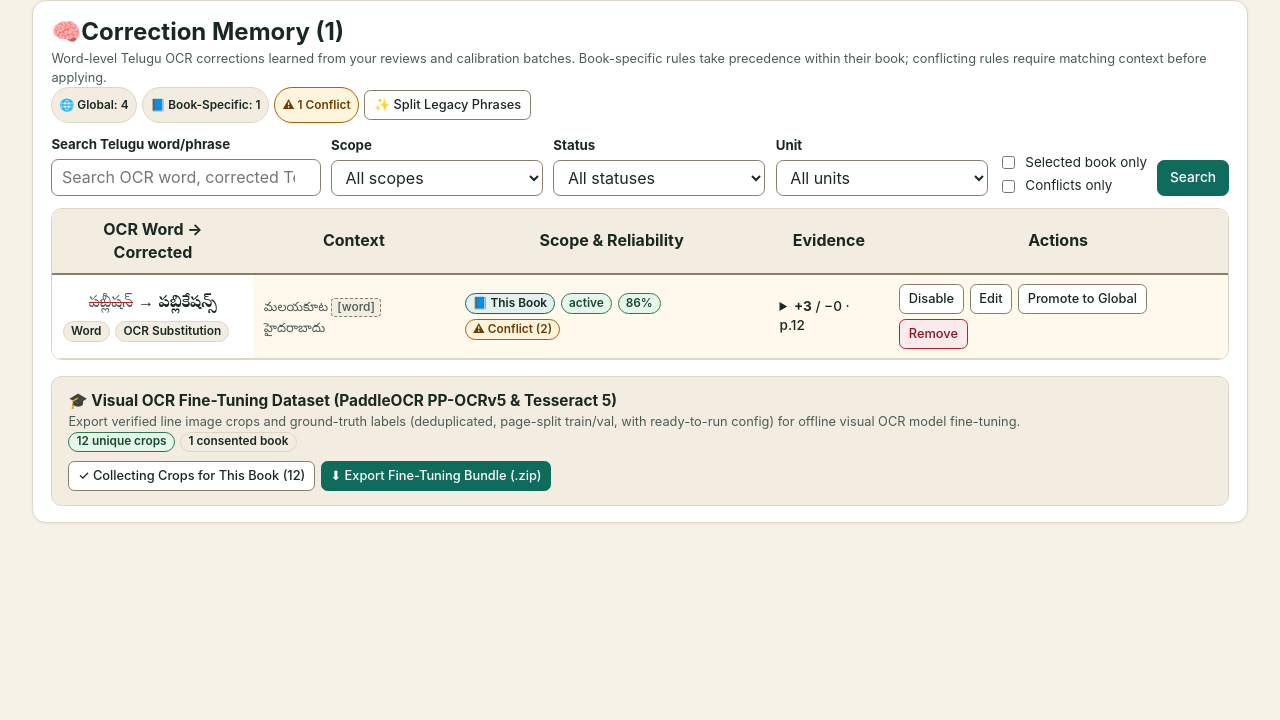
Test: Improved Correction Memory UI › displays scope badges, conflict warnings, reliability score, and supports editing
Later steps or results of the test are not shown.
Expected: the text "పబ్లీషన్" is shown, x1=89 y1=293 x2=133 y2=315
Expected: the text "పబ్లికేషన్స్" is shown, x1=159 y1=293 x2=217 y2=315
Note: Test legacy phrase split button
What coordinates should you click on to do the following:
click the button "✨ Split Legacy Phrases"
I would click on:
 (448, 105)
Its box is x1=364 y1=90 x2=531 y2=120.
Note: Test visual fine-tuning dataset export button
What coordinates should you click on to do the following:
click the button "⬇ Export Fine-Tuning Bundle (.zip)"
I would click on:
 (436, 476)
Its box is x1=321 y1=461 x2=551 y2=491.
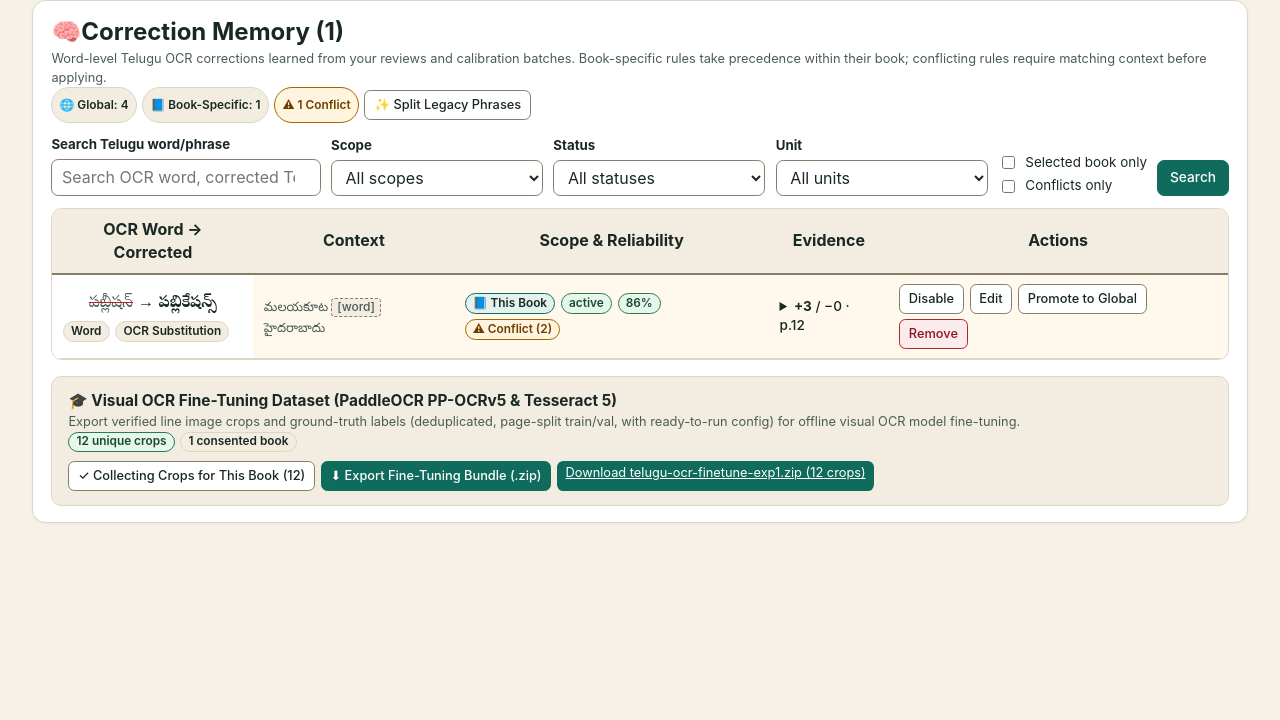
Result: the link "Download telugu-ocr-finetune-exp1.zip (12 crops)" is shown at x1=557 y1=461 x2=874 y2=491
